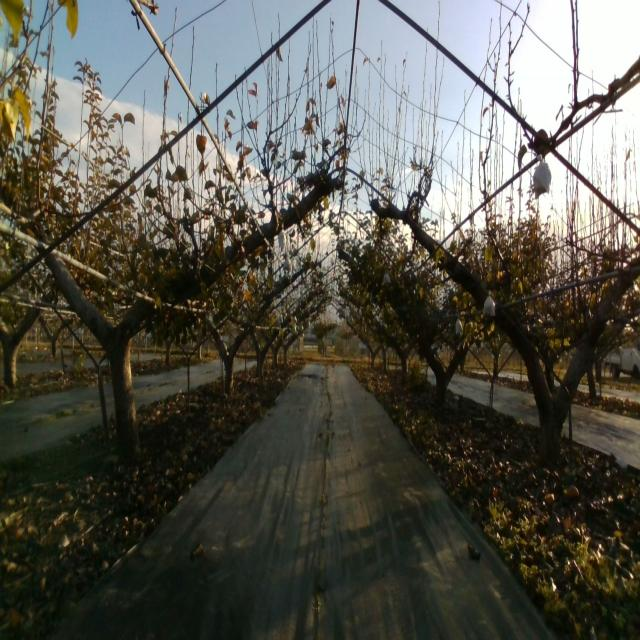pearbags: (532, 154, 552, 200), (482, 290, 496, 318)
